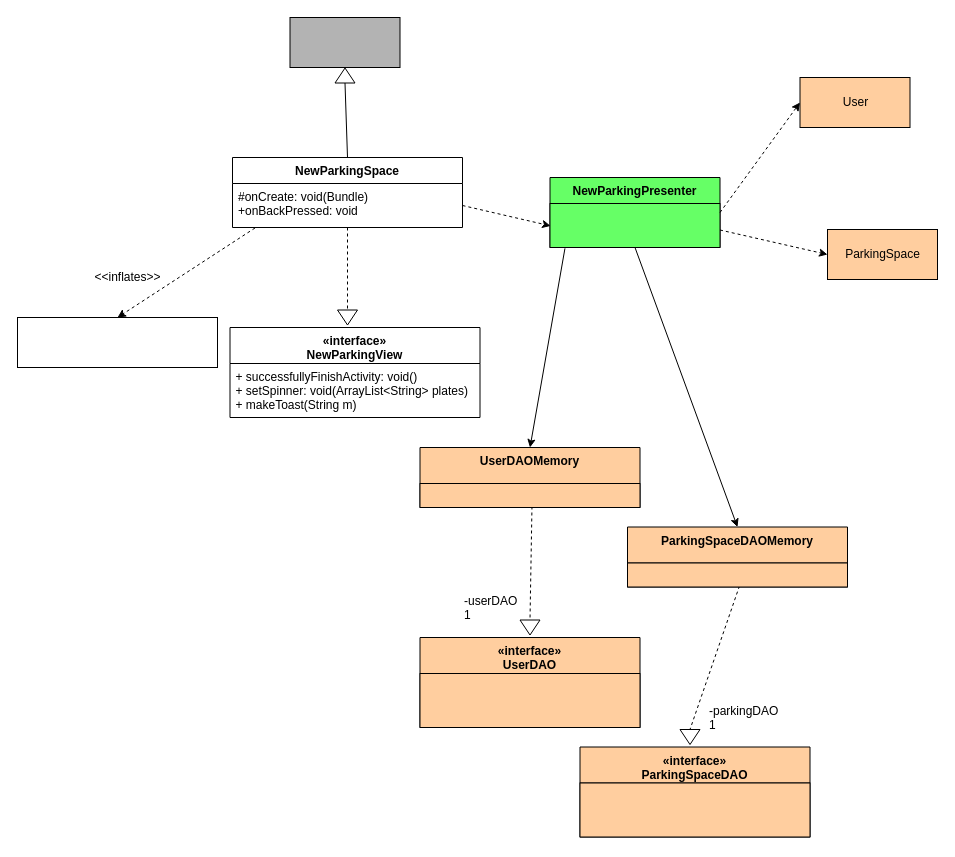
This 955x857 diagram has some shape labels left out. The shapes that lost their labels are listed below. From the top down, each one's centre as x and y in pixels, then its label:
(x=344, y=42): AppCompatActivity
(x=634, y=225): +add: void (ParkingSpace) +setPlate: void()
(x=117, y=342): «layout» activity_new_parking_space.xml
(x=529, y=700): + find: User(String)
(x=694, y=809): + save: void(ParkingSpace) + find: ParkingSpace(ParkingSpace)
